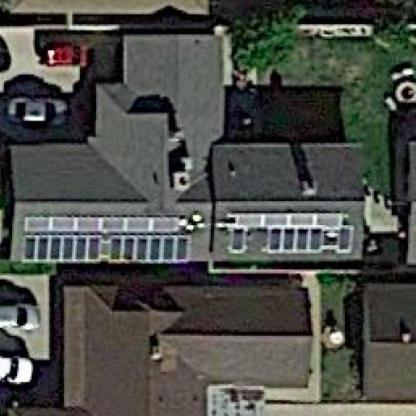car: (6, 93, 72, 133), (36, 35, 101, 70), (1, 298, 45, 333), (1, 350, 36, 385)
solar_panel: (21, 212, 199, 272), (227, 209, 355, 260)
